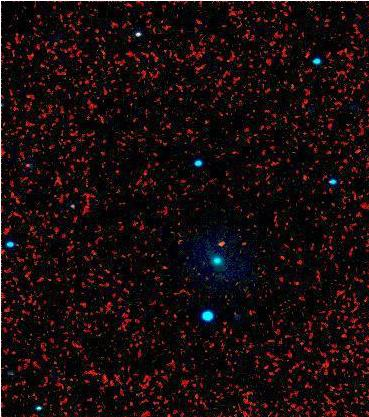star: (201, 225, 231, 255)
